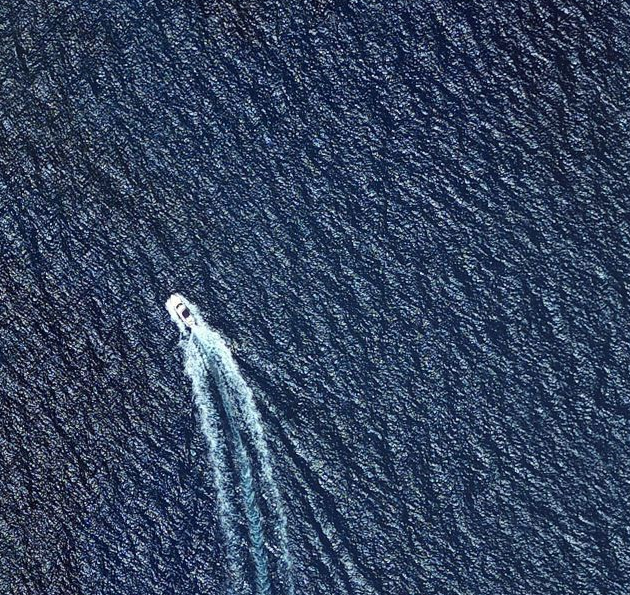ship: (161, 288, 205, 335)
